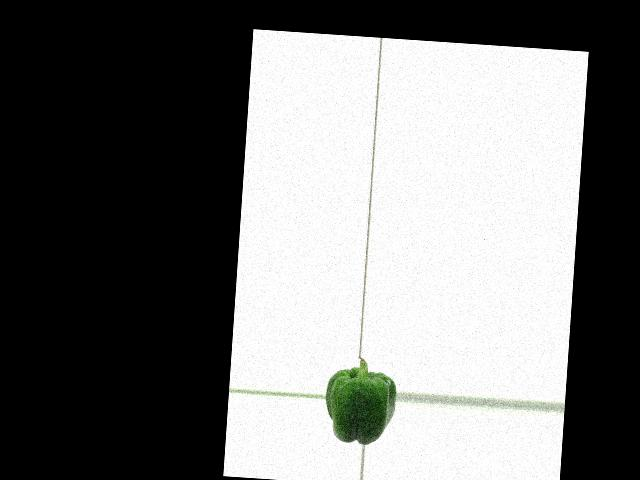bell_pepper: (322, 356, 396, 446)
